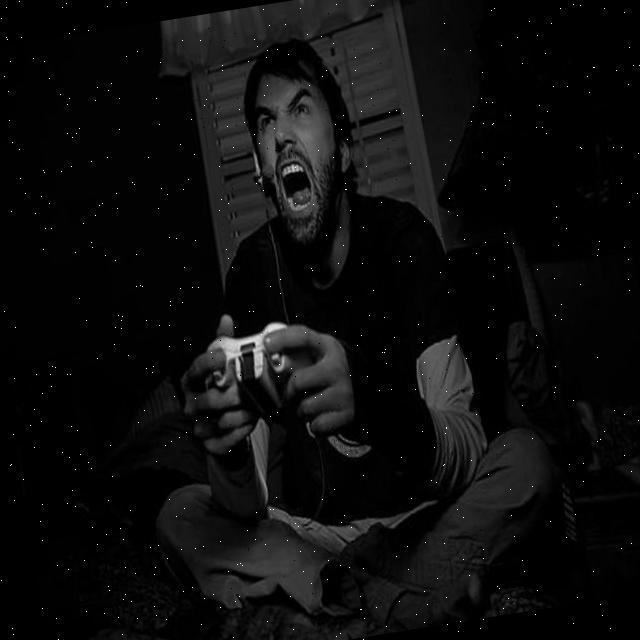Angry: (246, 64, 355, 252)
